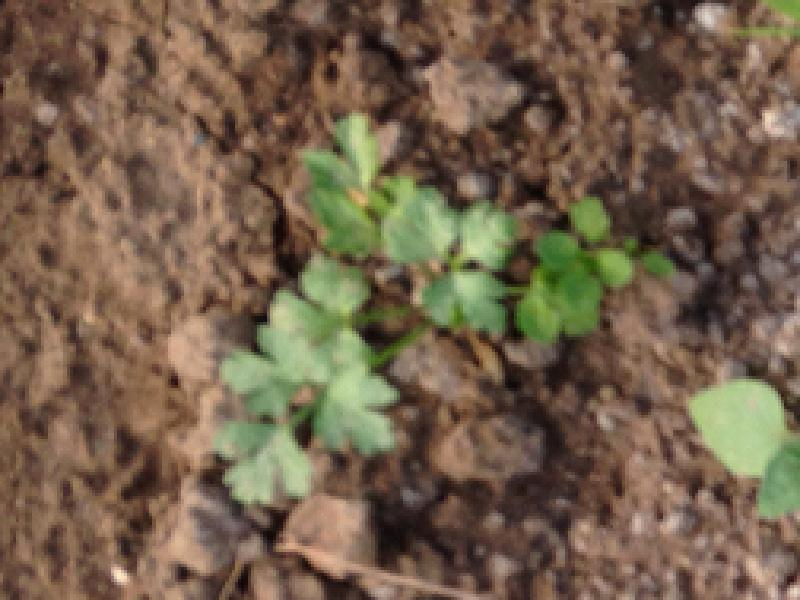radish: (103, 10, 730, 595)
